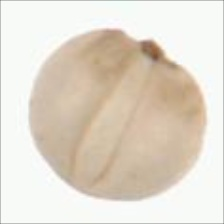L5: (69, 55, 152, 185), (117, 27, 185, 72)
L6: (28, 28, 207, 202)
